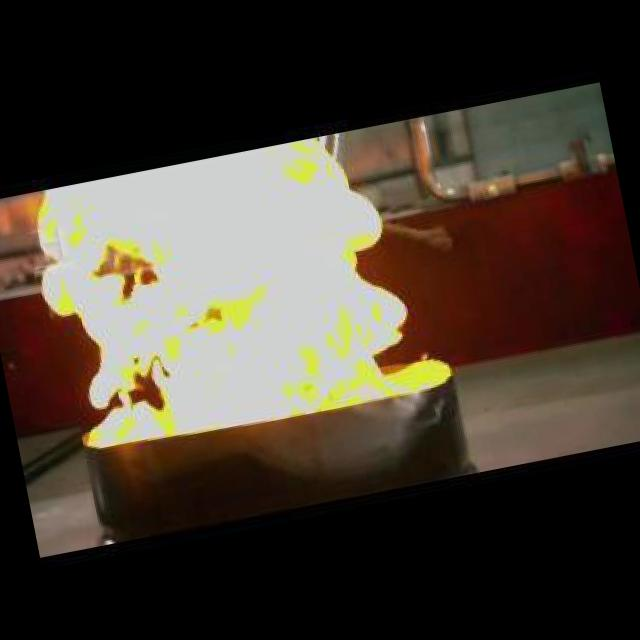Smoke: (30, 128, 444, 452)
